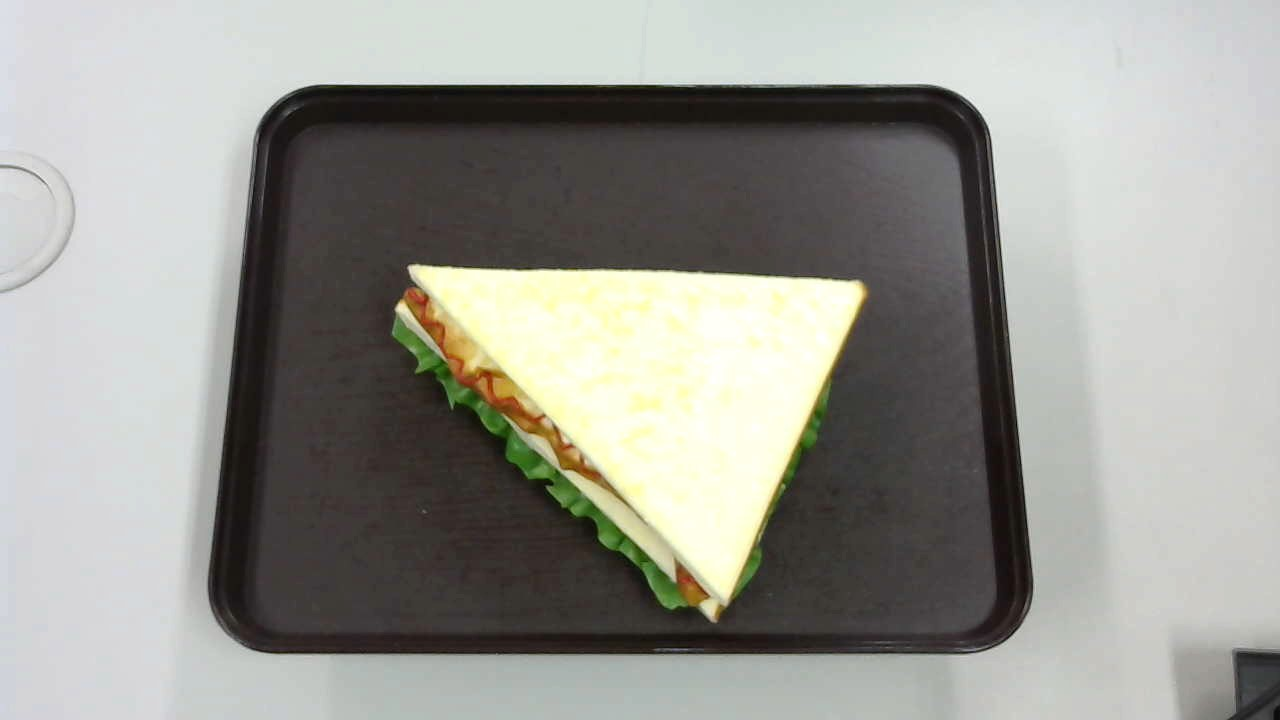sandwich: (392, 264, 869, 627)
